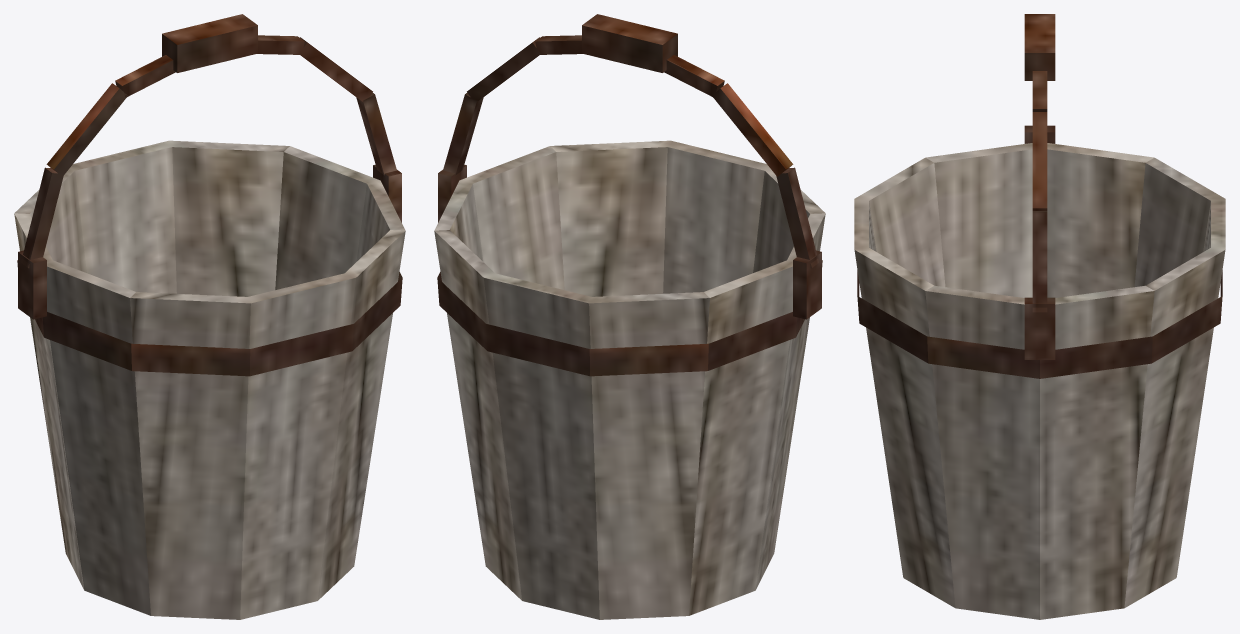
File: bucket_tex.glb
3 views of the same model, side by side, from view 1: azimuth 30°, elevation 25°; view 2: azimuth 150°, elevation 25°; view 3: azimuth 270°, elevation 25° (orthographic).
Parts seen in each view (by area): view 1: bucket; view 2: bucket; view 3: bucket.
Part boxes in pixels (box(x1,y1,x2,y2)): bucket: box(14, 14, 405, 619); bucket: box(434, 14, 825, 619); bucket: box(854, 14, 1225, 619).
Size of the model in its own units: 0.4135 by 0.565 by 0.3614.
Materials: 1 (1 with a texture image).
